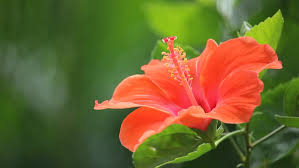hybiscus: (92, 32, 283, 155)
